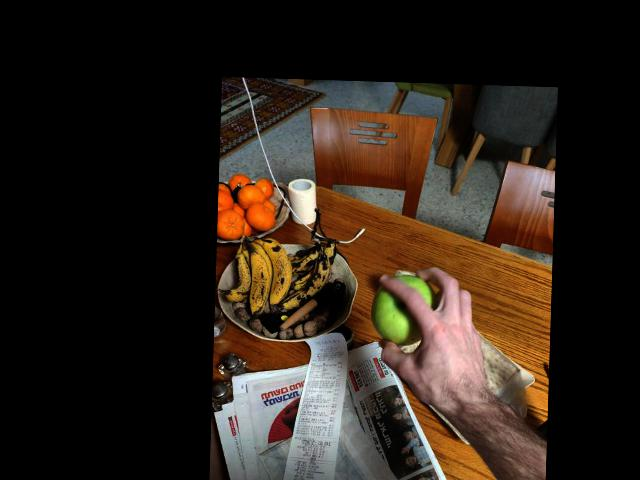apple: (371, 270, 438, 348)
